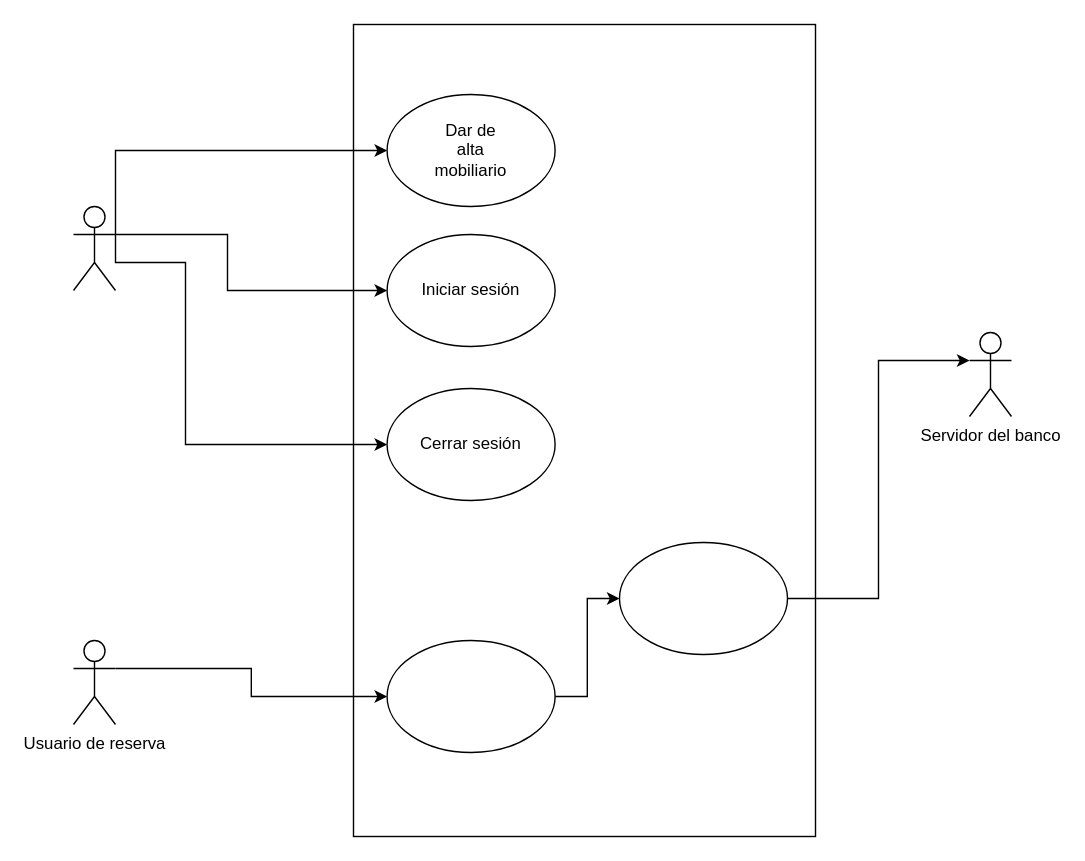
This 1085x861 diagram has some shape labels left out. The centre of each missing label's shape, as x and y in pixels:
"Pagar con tarjeta" goes at point (703, 597).
"Reservar muebles" goes at point (470, 695).
"Usuario de carga" goes at point (93, 247).
